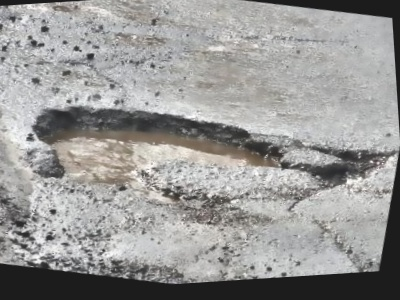pothole: (13, 79, 304, 235), (293, 134, 399, 204)
